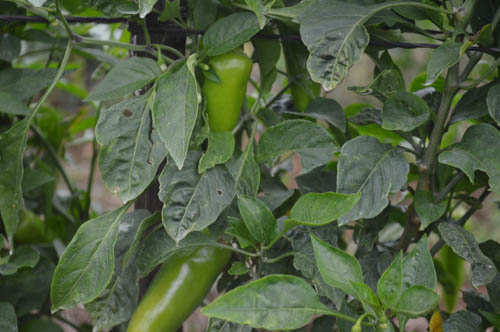ChiliPepper: (122, 234, 233, 332), (201, 56, 251, 132), (440, 223, 472, 311)
